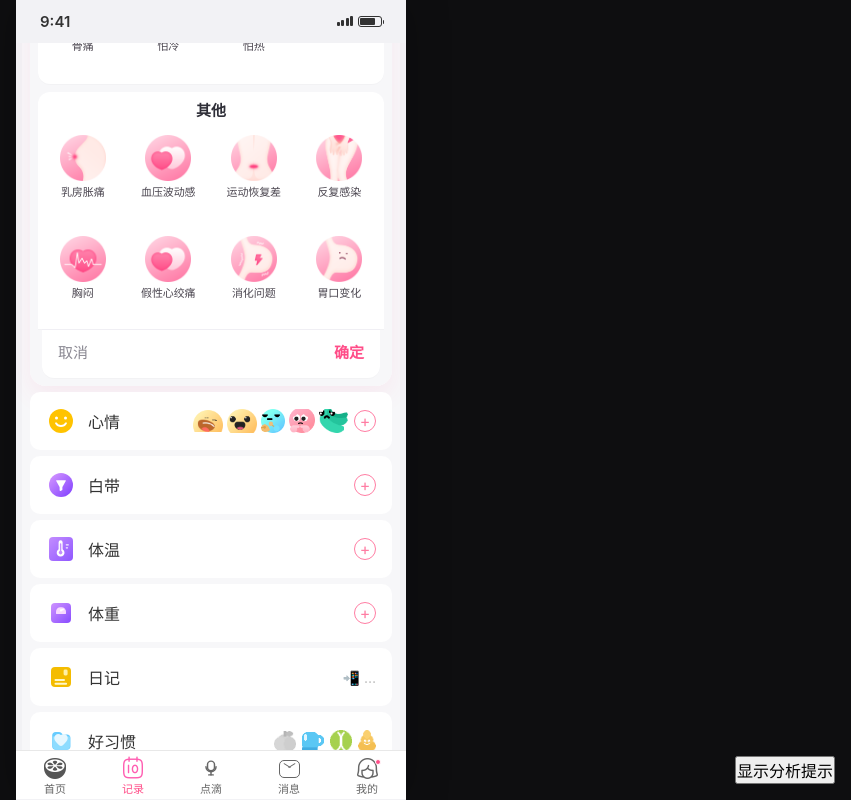
Test: scene1 ui › renders five mood preview icons and expands grouped mood options inline
The image size is (851, 800).
(page scrolled)
Expected: the element with test id "scene1-mood-preview-super-happy" is shown, [193,409,223,433]
Expected: the element with test id "scene1-mood-preview-pretty-happy" is shown, [227,409,257,433]
What coordinates should you click on to do the following:
click the button named "展开心情"
I would click on:
 (365, 421)
Its box is [354,410,376,432].
(page scrolled)
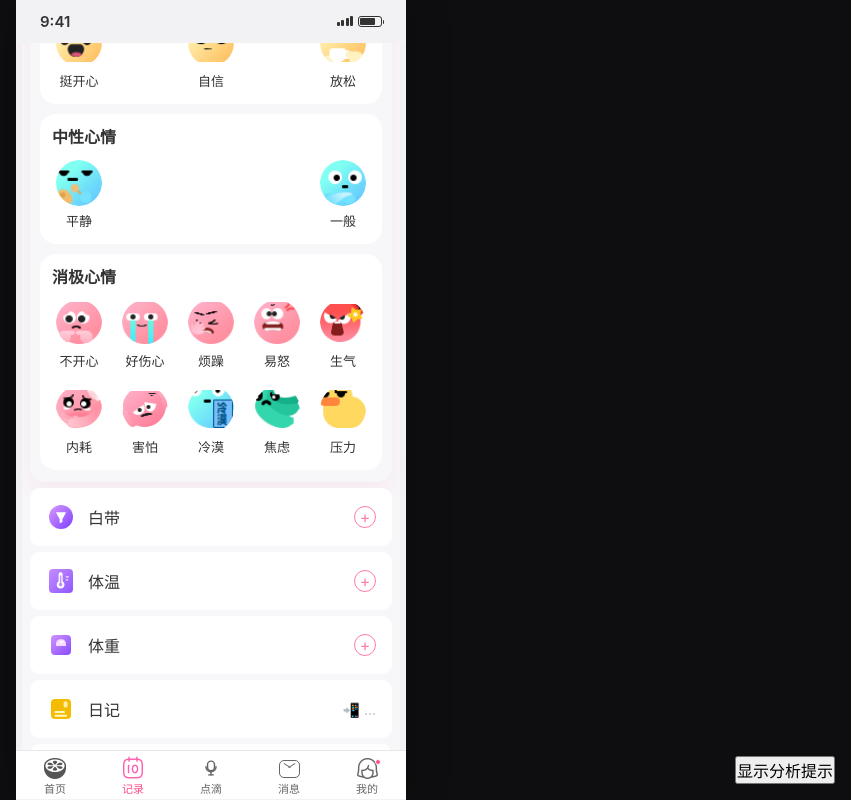
Result: the element with test id "scene1-mood-panel" is shown at [30,43,392,482]
Result: the heading "中性心情" is shown at [52,127,116,147]
Result: the heading "消极心情" is shown at [52,267,116,287]
